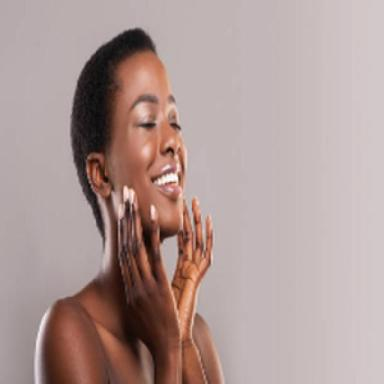normal skin: (35, 186, 181, 384), (86, 50, 186, 238), (172, 199, 224, 384)
